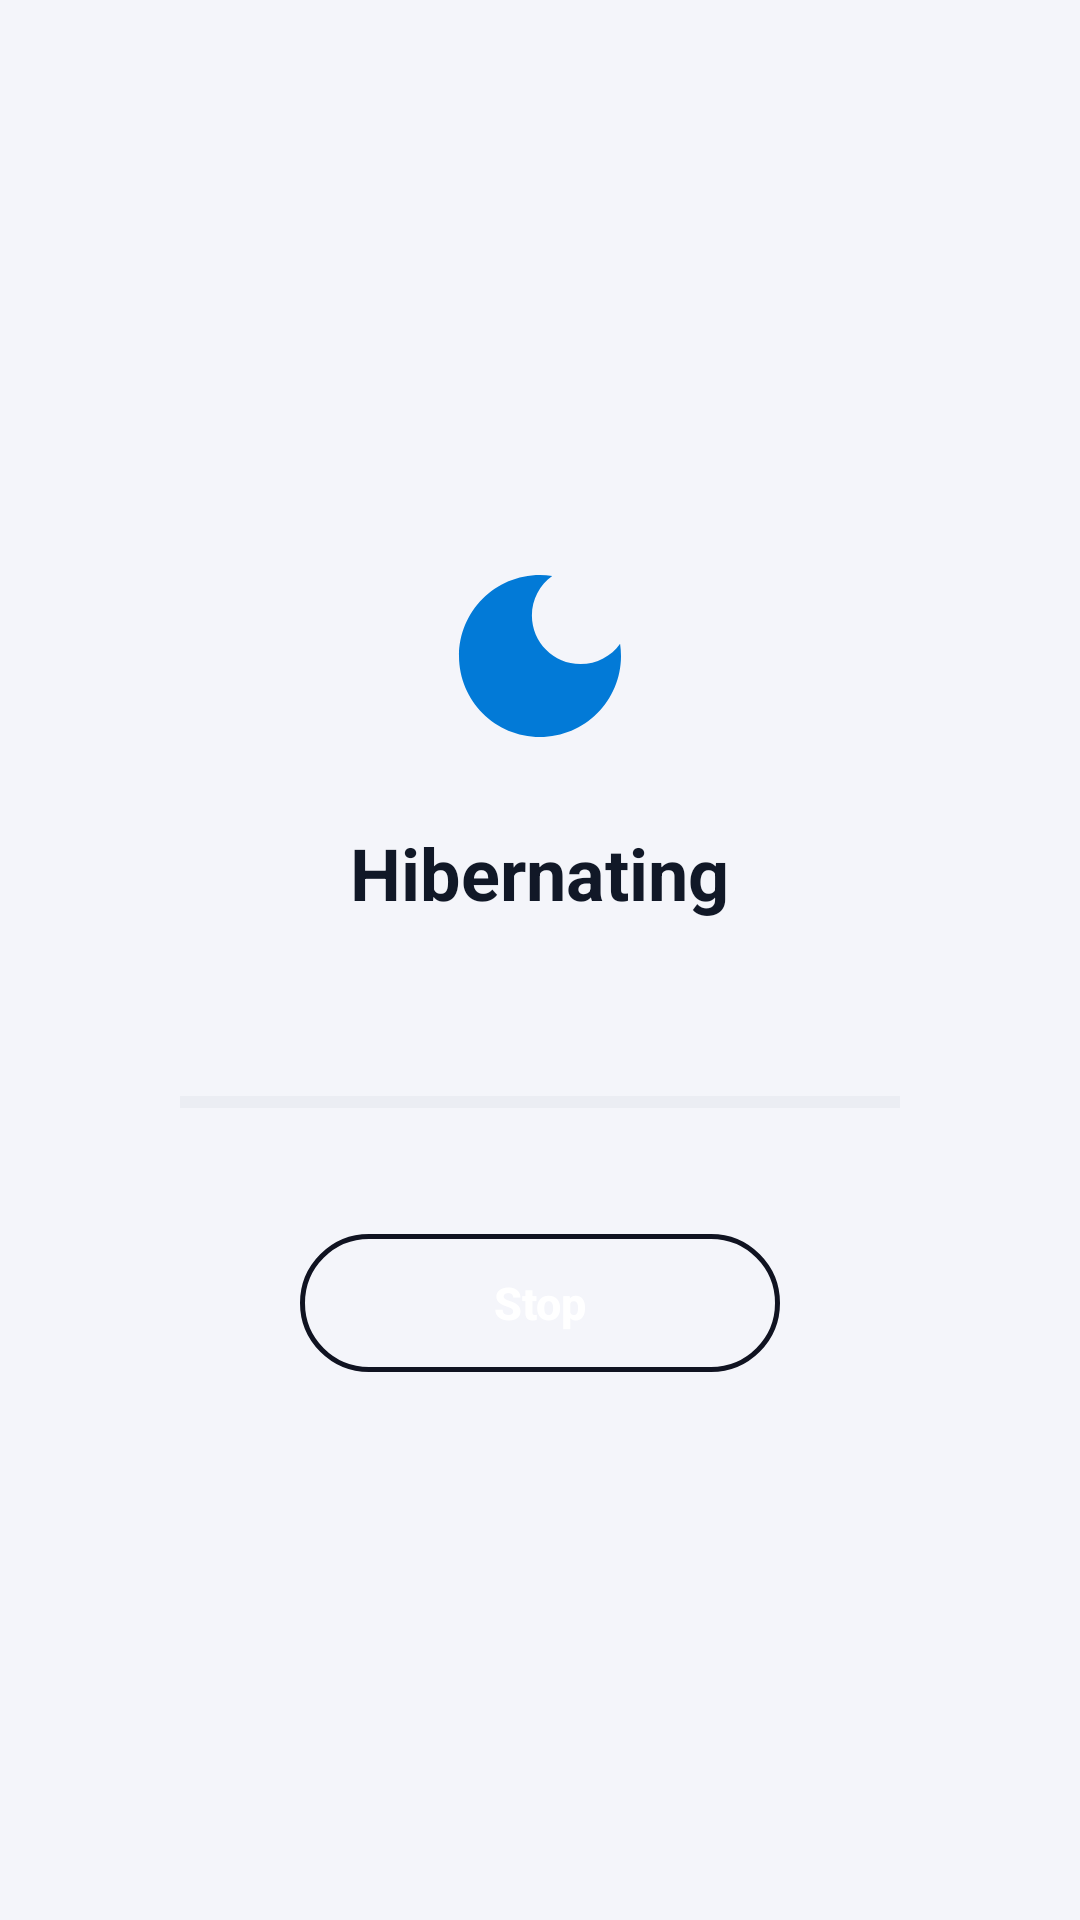

Icon click points for this 1080px x 1920px phone screenshot, format [x,y]:
moon: [540,656]
